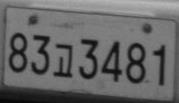1: (149, 44, 171, 86)
3: (30, 34, 50, 75), (78, 38, 98, 79)
4: (100, 40, 123, 82)
8: (125, 41, 146, 84), (7, 32, 28, 73)
고: (52, 43, 73, 78)
